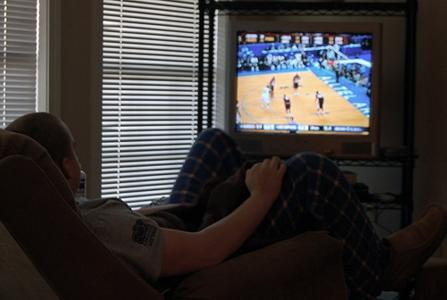person: (4, 113, 366, 287)
